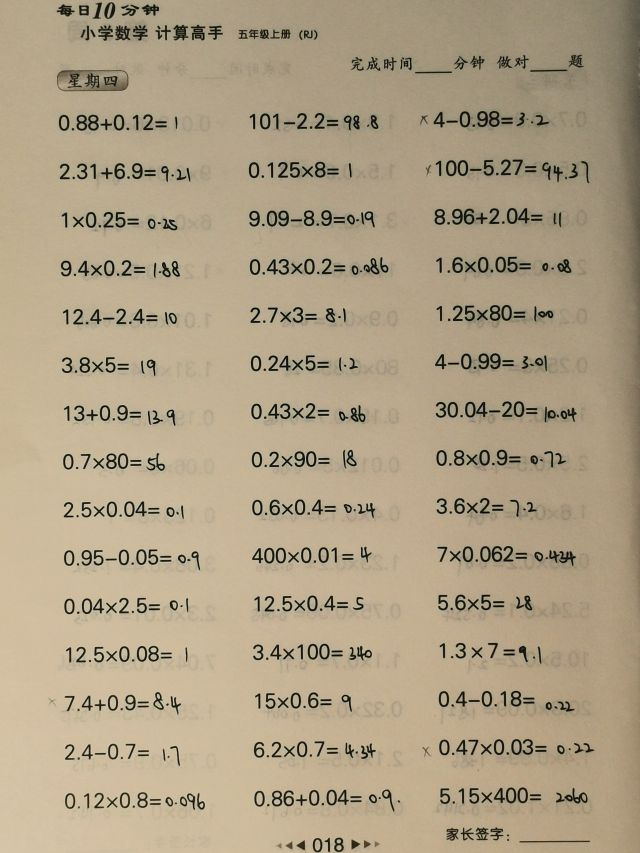equation: (420, 154, 593, 184), (432, 734, 599, 763), (434, 779, 594, 808), (251, 786, 399, 816), (431, 396, 580, 424), (59, 544, 204, 572), (433, 686, 578, 713), (61, 788, 210, 814), (433, 541, 579, 567), (60, 687, 185, 717), (244, 254, 391, 278), (429, 203, 564, 229), (431, 445, 570, 470), (55, 158, 194, 183), (51, 110, 190, 135), (246, 494, 379, 520), (432, 253, 576, 277), (416, 107, 554, 132), (246, 109, 383, 134), (61, 739, 183, 767), (249, 736, 379, 762), (60, 400, 180, 428), (245, 206, 379, 231), (61, 641, 191, 666), (61, 497, 189, 522), (55, 255, 183, 280), (246, 398, 369, 424), (60, 594, 193, 618), (432, 300, 557, 325), (431, 348, 550, 374), (58, 207, 180, 232), (250, 640, 377, 664), (247, 543, 374, 567), (246, 446, 361, 472), (435, 638, 546, 664), (58, 448, 169, 474), (251, 687, 355, 714), (251, 592, 368, 616), (432, 493, 540, 519), (246, 351, 363, 375), (60, 305, 181, 328), (244, 158, 356, 182), (58, 352, 159, 377), (246, 302, 350, 326), (434, 591, 537, 615)
